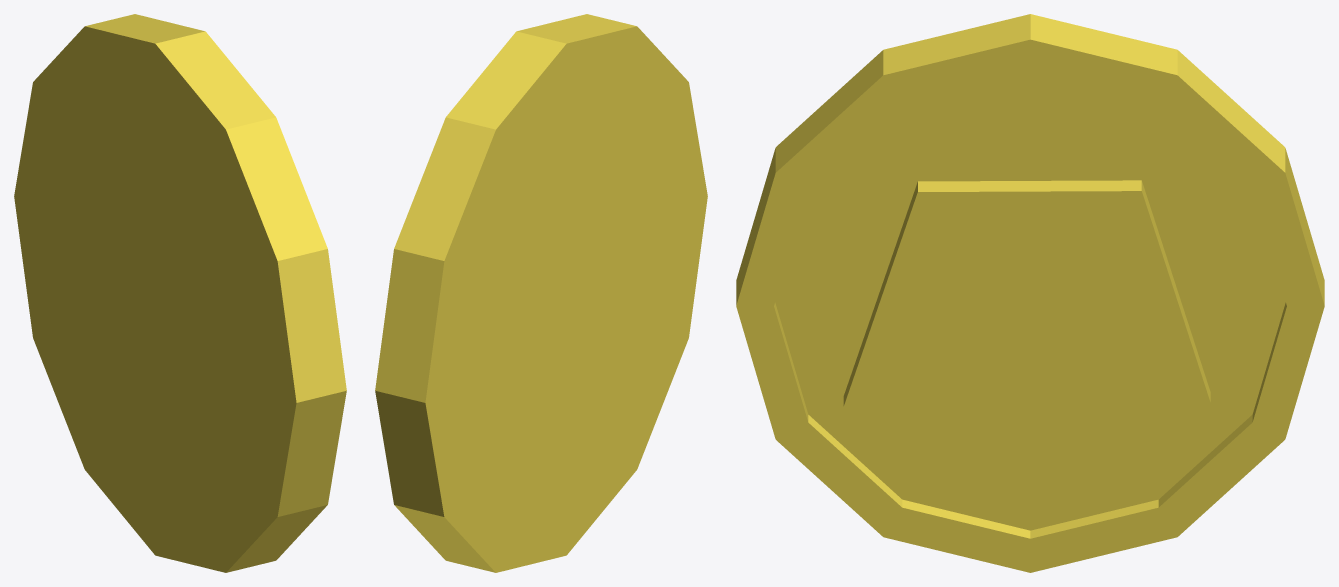
Rendered from jinbi.fbx.
3 renders of one model, left to right at view 1: azimuth 30°, elevation 25°; view 2: azimuth 150°, elevation 25°; view 3: azimuth 270°, elevation 25°, orthographic. The views are drawn at different scales.
Visible parts, largest first — view 1: JB; view 2: JB; view 3: JB.
Boxes of the visible parts, <box> form: JB: <box>14,14,346,572</box>; JB: <box>375,14,707,572</box>; JB: <box>736,14,1324,572</box>.
Bounding box in the file's own units: 0.2265 × 2 × 2.
